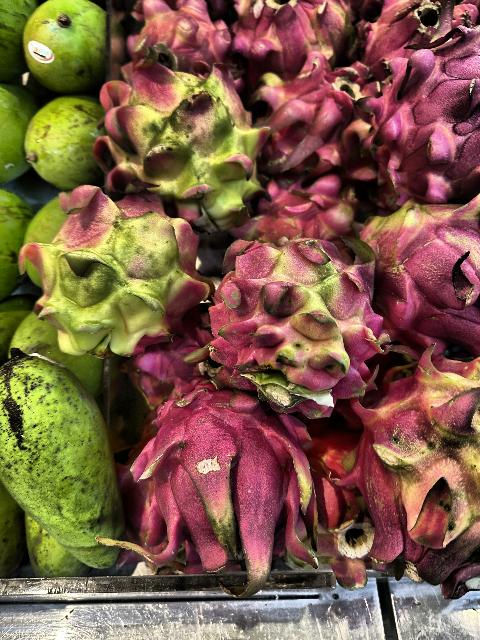buah-naga-belum-matang: (334, 344, 480, 582), (208, 228, 388, 408), (94, 54, 272, 226), (27, 176, 207, 344), (362, 196, 480, 357)
buah-naga-matang: (134, 384, 332, 576), (368, 40, 480, 198), (253, 57, 360, 165), (123, 0, 239, 81), (230, 1, 360, 72), (358, 0, 480, 70), (261, 170, 352, 258)
